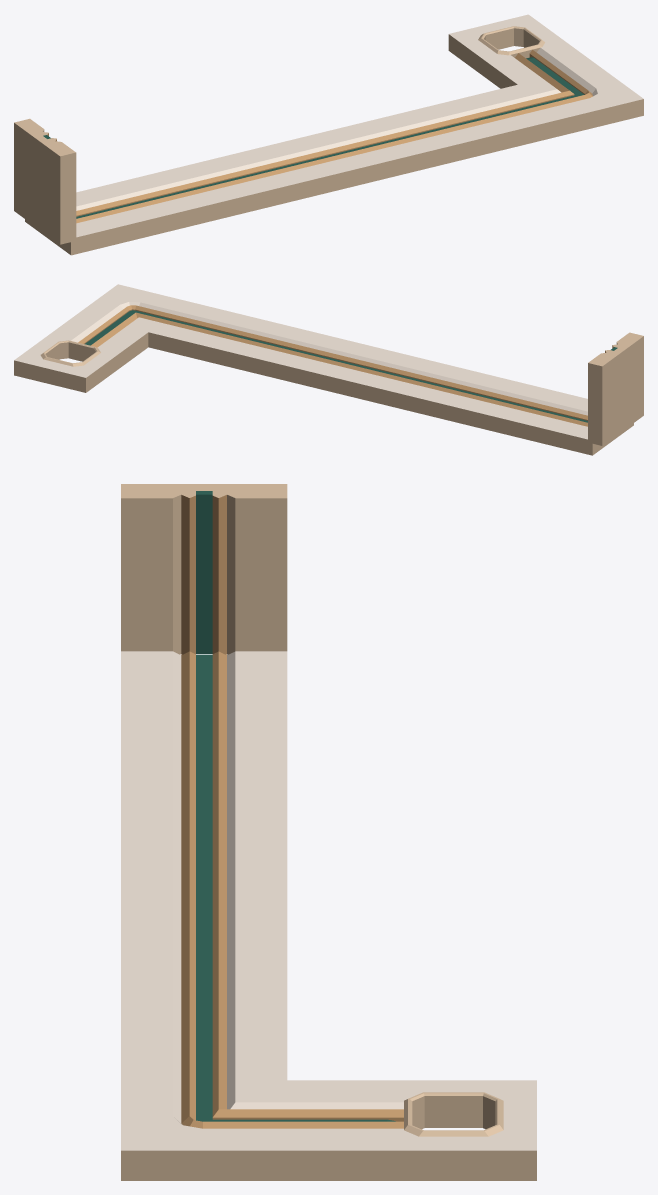
The model's file is Circuit_2.glb.
3 views of the same model, one above another, from view 1: azimuth 30°, elevation 25°; view 2: azimuth 150°, elevation 25°; view 3: azimuth 270°, elevation 25° (orthographic). The views are drawn at different scales.
Parts seen in each view (by area): view 1: mergedBlocks(Clone); view 2: mergedBlocks(Clone); view 3: mergedBlocks(Clone).
Boxes of the visible parts, x1,y1,x2,y2 form: mergedBlocks(Clone): (14, 14, 643, 255); mergedBlocks(Clone): (14, 284, 643, 455); mergedBlocks(Clone): (121, 484, 536, 1180).
Size of the model in its own units: 21.9 by 3.65 by 7.5.
